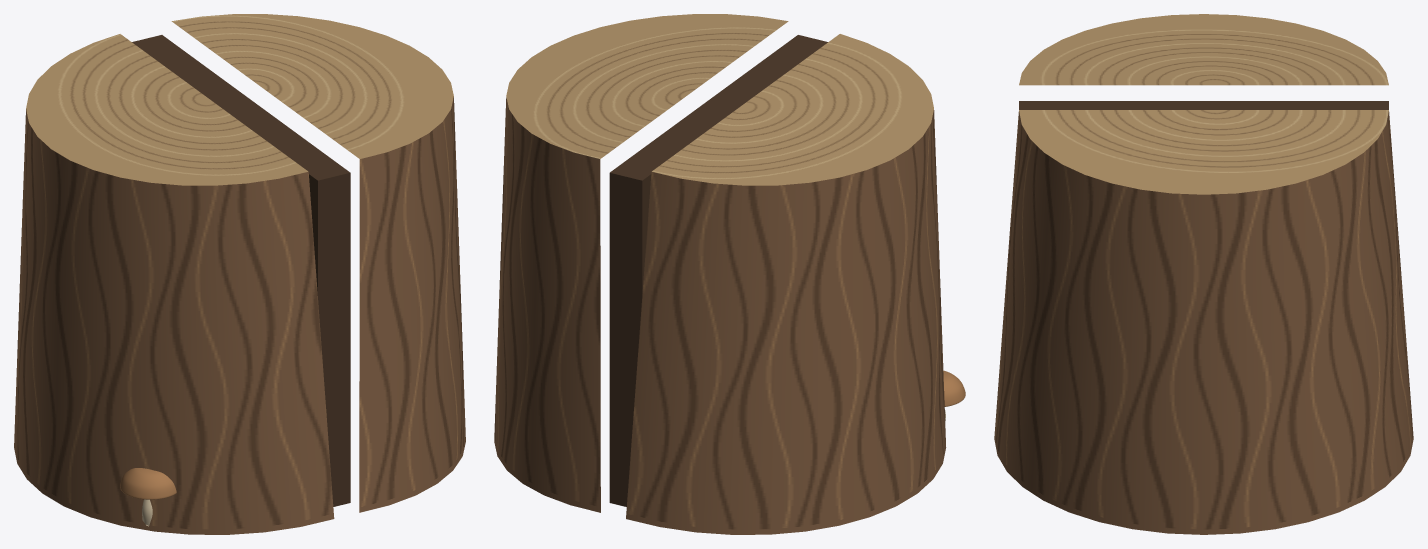
The model's file is props_p6__p6_stump.glb.
3 renders of one model, left to right at view 1: azimuth 30°, elevation 25°; view 2: azimuth 150°, elevation 25°; view 3: azimuth 270°, elevation 25°, orthographic.
Visible parts, largest first — view 1: stump_half (×2), stump_split, cap; view 2: stump_half (×2), stump_split, cap; view 3: stump_half (×2), stump_split.
Boxes of the visible parts, x1,y1,x2,y2 form: stump_half (×2): (14, 14, 465, 534); stump_split: (132, 35, 350, 506); cap: (120, 468, 176, 499); stump_half (×2): (494, 14, 946, 534); stump_split: (609, 35, 827, 506); cap: (943, 370, 965, 406); stump_half (×2): (994, 14, 1413, 534); stump_split: (1019, 101, 1388, 109).
Bounding box in the file's own units: 0.7255 × 0.6131 × 0.68.
31 materials, 6 textured.
